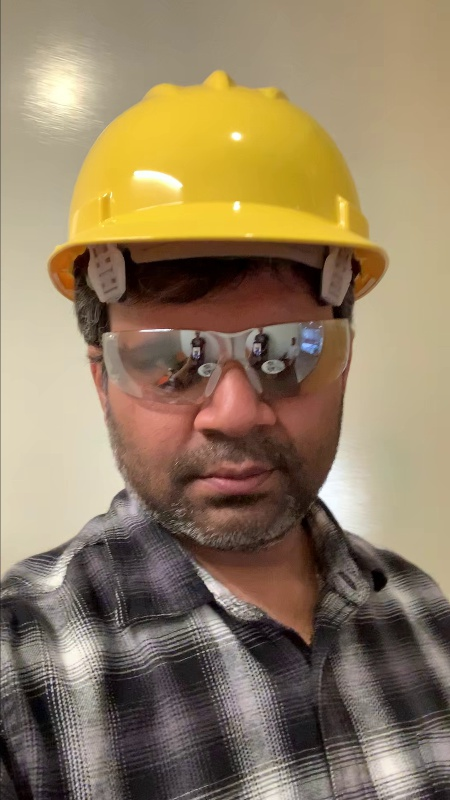glasses: (95, 318, 354, 397)
helmet: (59, 72, 380, 255)
